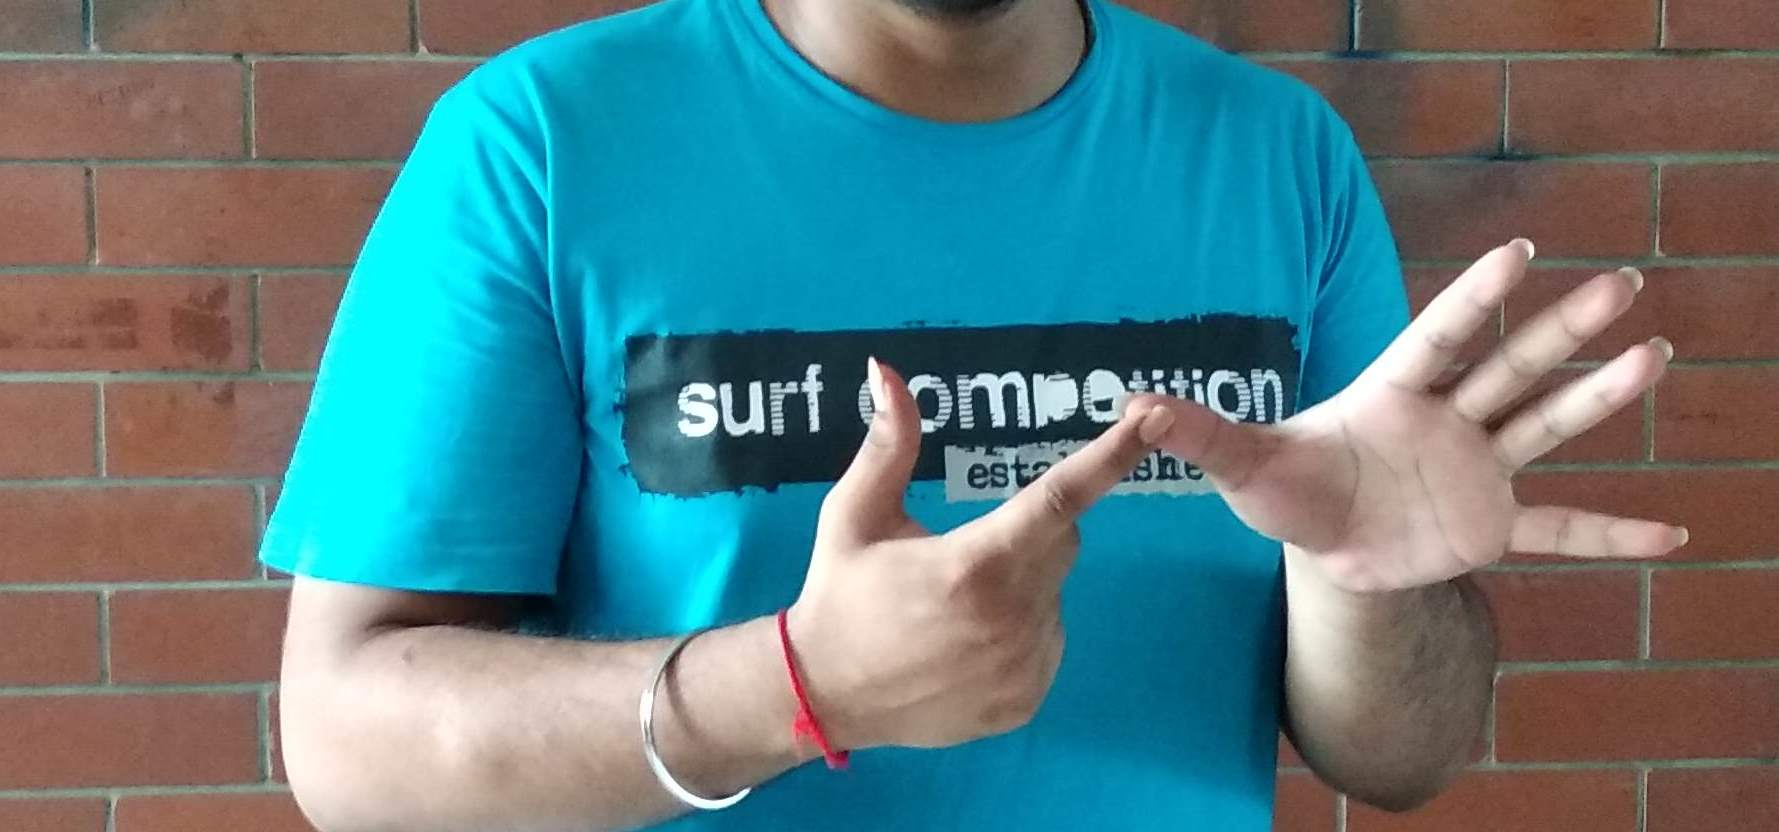a: (855, 229, 1676, 743)
